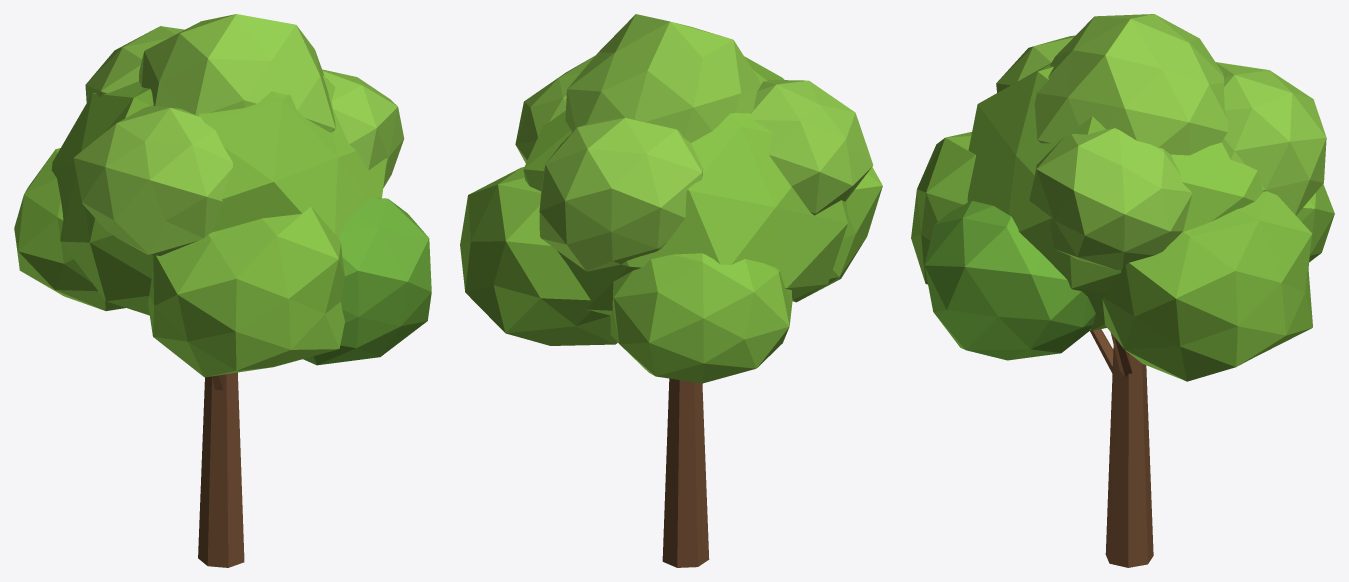
The model's file is arvore_a.glb.
3 renders of one model, left to right at view 1: azimuth 30°, elevation 25°; view 2: azimuth 150°, elevation 25°; view 3: azimuth 270°, elevation 25°, orthographic. The views are drawn at different scales.
Visible parts, largest first — view 1: arvore_a_01, arvore_a_03, arvore_a_02, arvore_a_00; view 2: arvore_a_01, arvore_a_03, arvore_a_00; view 3: arvore_a_01, arvore_a_03, arvore_a_02, arvore_a_00.
Boxes of the visible parts, bbox=[...] form: arvore_a_01: bbox=[14, 75, 386, 377]; arvore_a_03: bbox=[73, 14, 404, 255]; arvore_a_02: bbox=[303, 198, 431, 365]; arvore_a_00: bbox=[198, 372, 244, 567]; arvore_a_01: bbox=[460, 56, 882, 383]; arvore_a_03: bbox=[515, 14, 873, 271]; arvore_a_00: bbox=[662, 378, 709, 567]; arvore_a_01: bbox=[911, 63, 1334, 381]; arvore_a_03: bbox=[996, 14, 1326, 269]; arvore_a_02: bbox=[924, 201, 1095, 360]; arvore_a_00: bbox=[1090, 329, 1153, 567].
Size of the model in its own units: 4.07 by 6.2 by 4.36.
